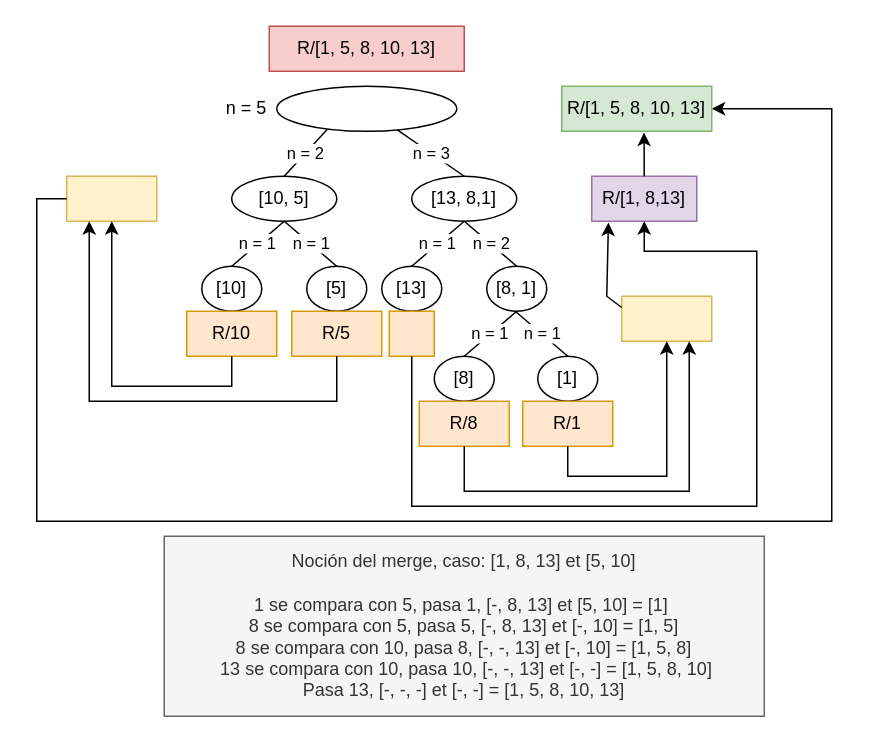
The diagram is 870 pixels wide and 743 high, and some of its shapes have lost their labels. The centre of each missing label's shape, as x and y in pixels:
a = [10, 5, 13, 8,1]: the point at 366,108
R/ 13: the point at 411,333
R/[5, 10]: the point at 111,198
R/[8, 1]: the point at 666,318
